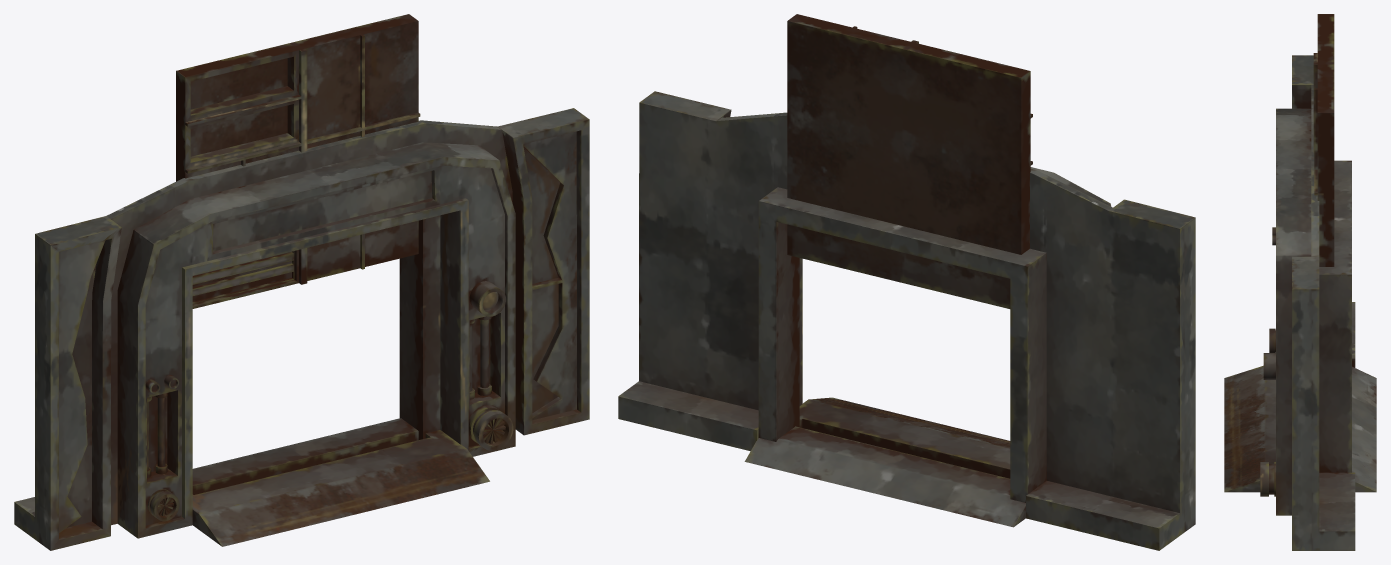
Rendered from OBJ_Brama.fbx.
3 views of the same model, side by side, from view 1: azimuth 30°, elevation 25°; view 2: azimuth 150°, elevation 25°; view 3: azimuth 270°, elevation 25° (orthographic). The views are drawn at different scales.
Parts seen in each view (by area): view 1: Brama_brama, Brama_rama; view 2: Brama_brama, Brama_rama; view 3: Brama_brama, Brama_rama.
Boxes of the visible parts, bbox=[...] form: Brama_brama: bbox=[14, 108, 589, 550]; Brama_rama: bbox=[176, 14, 420, 308]; Brama_brama: bbox=[618, 91, 1195, 550]; Brama_rama: bbox=[787, 14, 1032, 308]; Brama_brama: bbox=[1224, 55, 1376, 550]; Brama_rama: bbox=[1313, 14, 1334, 266].
Size of the model in its own units: 32.36 by 9.09 by 24.43.
